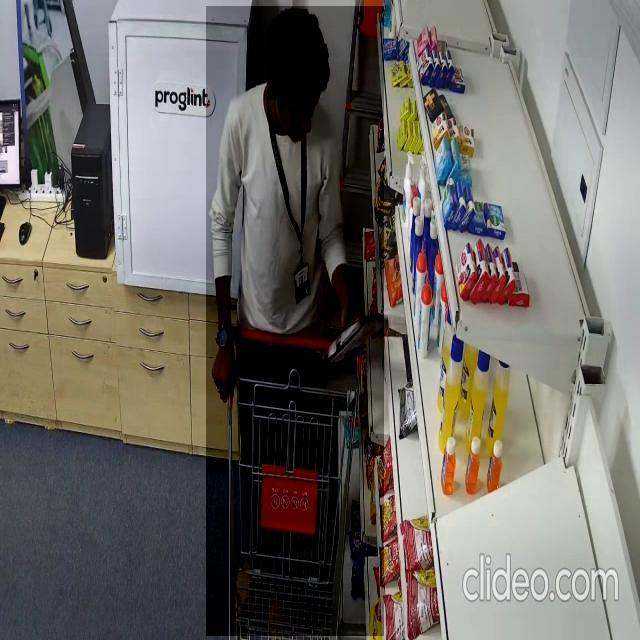normal: (206, 6, 384, 636)
